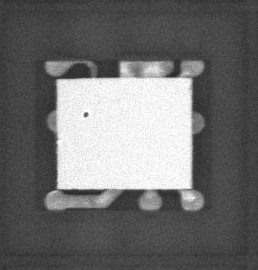DIE_INK: (77, 114, 86, 125)
